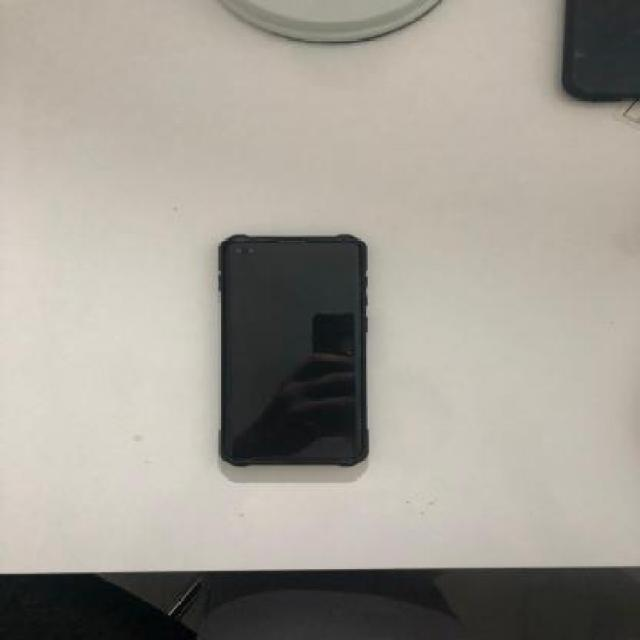phone: (217, 233, 371, 461)
